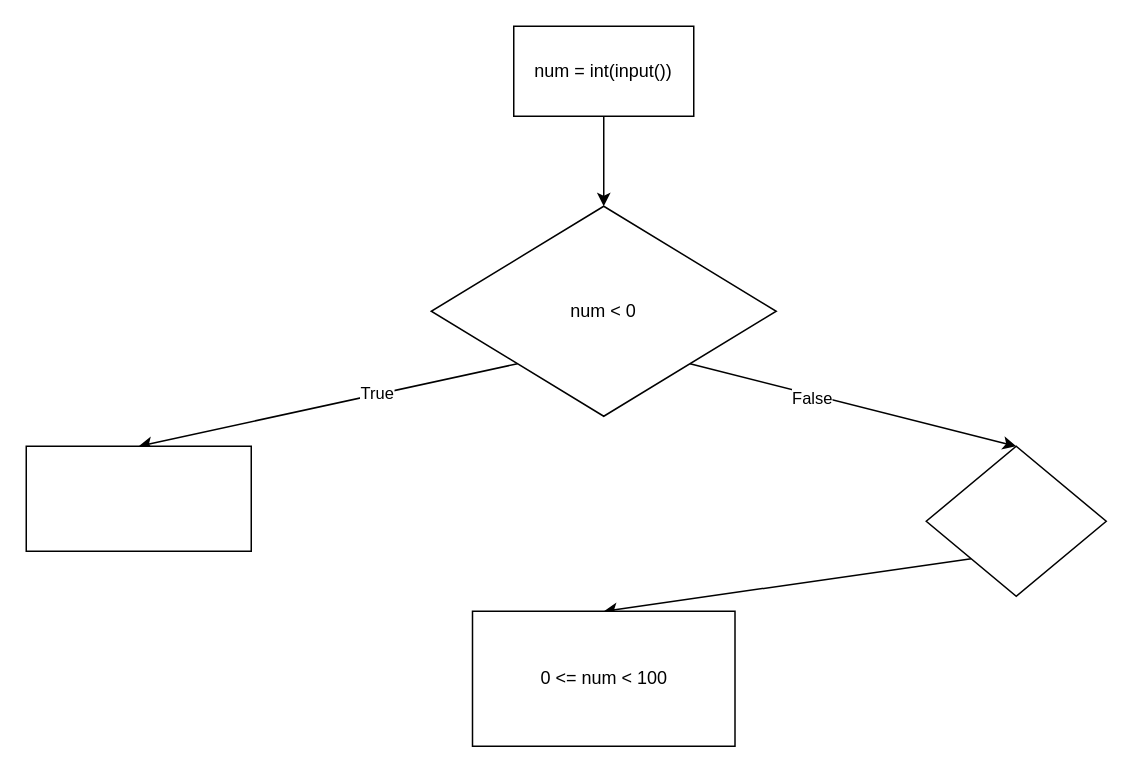
Image size: 1133x773. Some labels were removed from this diagram. Each missing label, with the centre of its shape:
"num < 100" goes at (x=1015, y=520).
"print number < 0" goes at (x=138, y=498).
